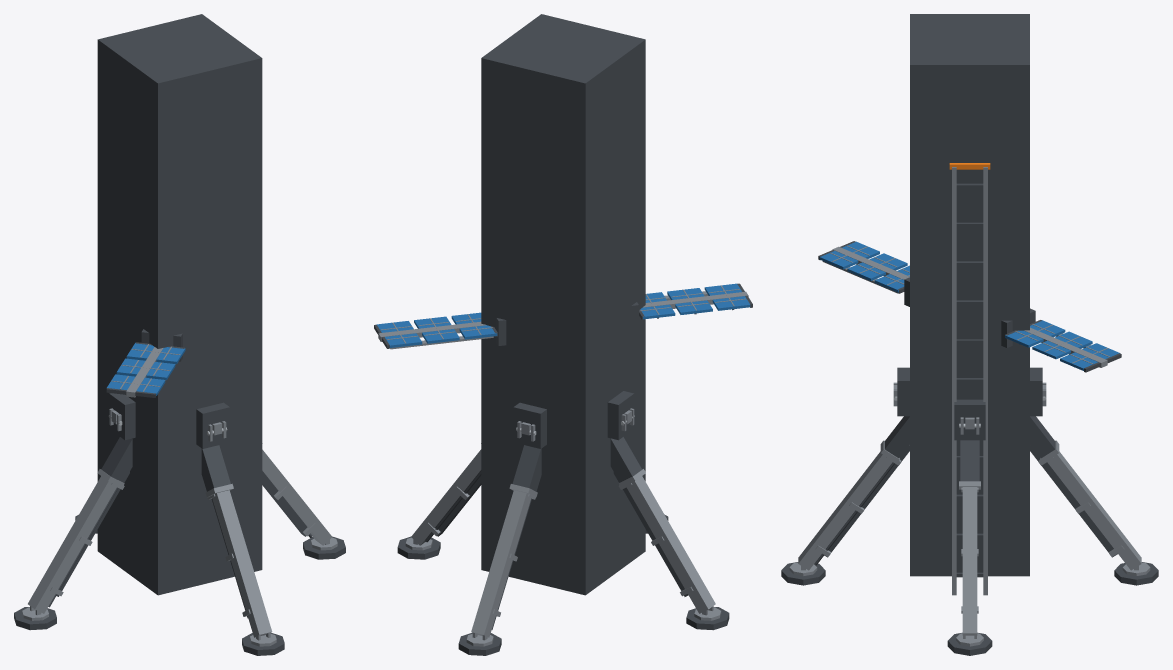
The model's file is lander_landed.glb.
The picture shows the model from 3 angles, left to right: view 1: azimuth 30°, elevation 25°; view 2: azimuth 150°, elevation 25°; view 3: azimuth 270°, elevation 25°; orthographic projection.
Parts seen in each view (by area): view 1: col_LanderLanded, LanderLanded_LOD0; view 2: col_LanderLanded, LanderLanded_LOD0; view 3: col_LanderLanded, LanderLanded_LOD0.
Boxes of the visible parts, box(x1,y1,x2,y2) form: col_LanderLanded: box(97, 14, 262, 595); LanderLanded_LOD0: box(14, 37, 345, 655); col_LanderLanded: box(481, 14, 645, 595); LanderLanded_LOD0: box(374, 37, 752, 655); col_LanderLanded: box(910, 14, 1029, 576); LanderLanded_LOD0: box(781, 28, 1158, 655).
Size of what is drawn, in the model's own units: 4.08 by 6.4 by 4.08.
